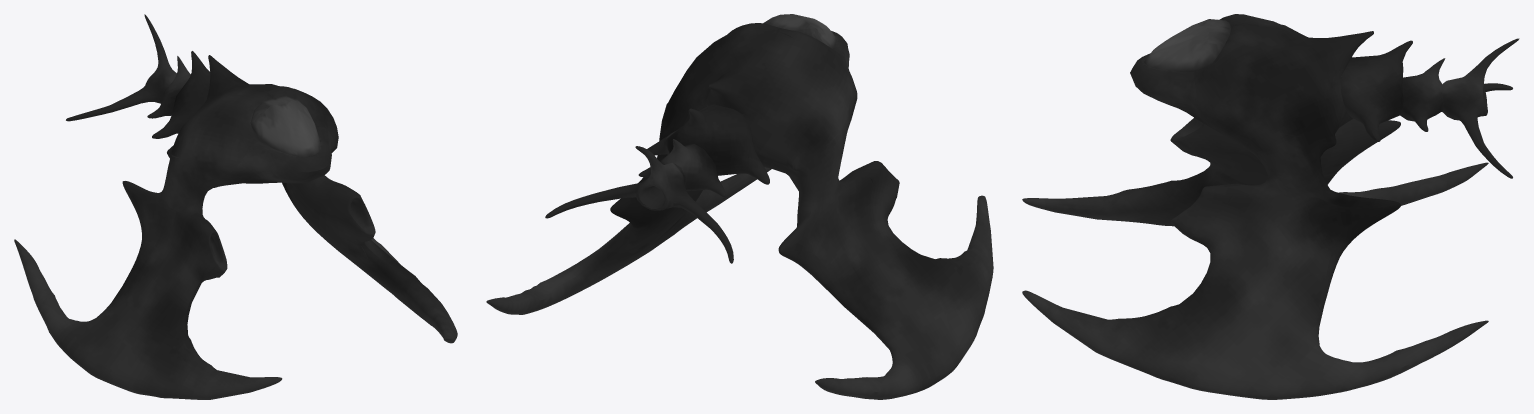
File: ship.glb
The picture shows the model from 3 angles, left to right: view 1: azimuth 30°, elevation 25°; view 2: azimuth 150°, elevation 25°; view 3: azimuth 270°, elevation 25°; orthographic projection. The views are drawn at different scales.
Visible parts, largest first — view 1: Object_2; view 2: Object_2; view 3: Object_2.
Part boxes in pixels (left/top/right/bottom): Object_2: left=14, top=14, right=457, bottom=399; Object_2: left=486, top=14, right=993, bottom=399; Object_2: left=1022, top=14, right=1519, bottom=399.
Size of the model in its own units: 12.33 by 8.94 by 14.05.
Materials: 1 (1 with a texture image).
